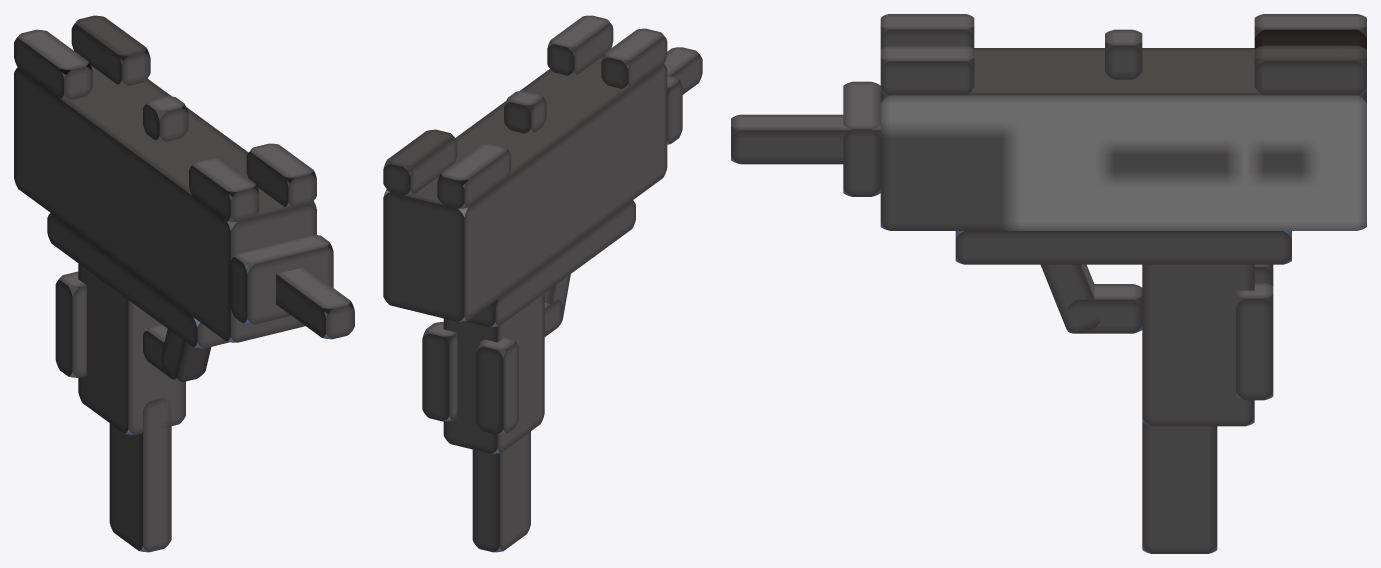
The model's file is aram 1.fbx.
3 renders of one model, left to right at view 1: azimuth 30°, elevation 25°; view 2: azimuth 150°, elevation 25°; view 3: azimuth 270°, elevation 25°, orthographic. The views are drawn at different scales.
Visible parts, largest first — view 1: group; view 2: group; view 3: group.
Part boxes in pixels (x1,y1,x2,y2): group: [14, 15, 354, 552]; group: [383, 15, 702, 552]; group: [731, 14, 1366, 553].
Size of the model in its own units: 18.75 by 93.75 by 106.
Materials: 1 (1 with a texture image).
